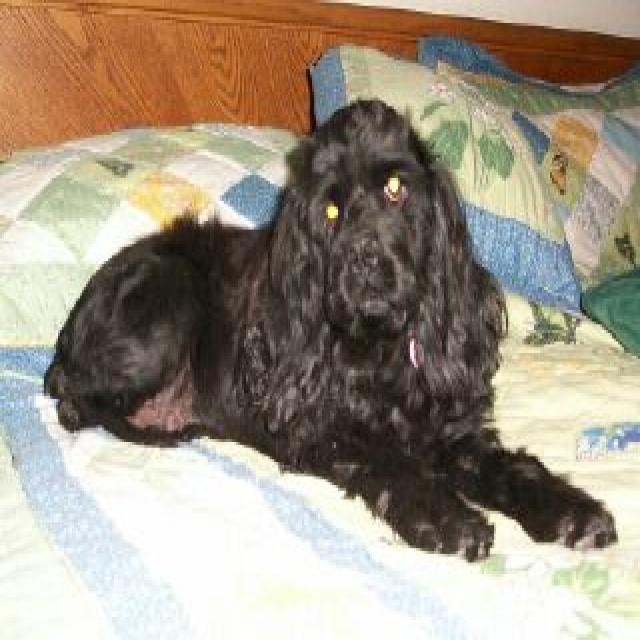Dogs: (40, 95, 618, 562)
